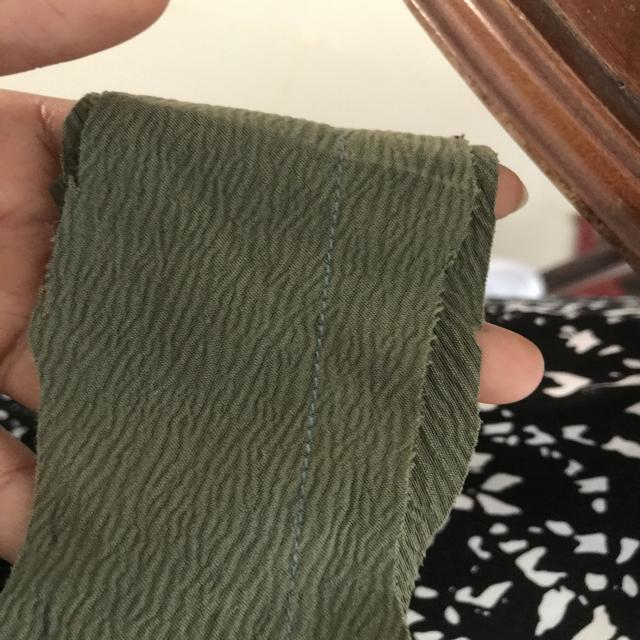good: (280, 400, 333, 514)
